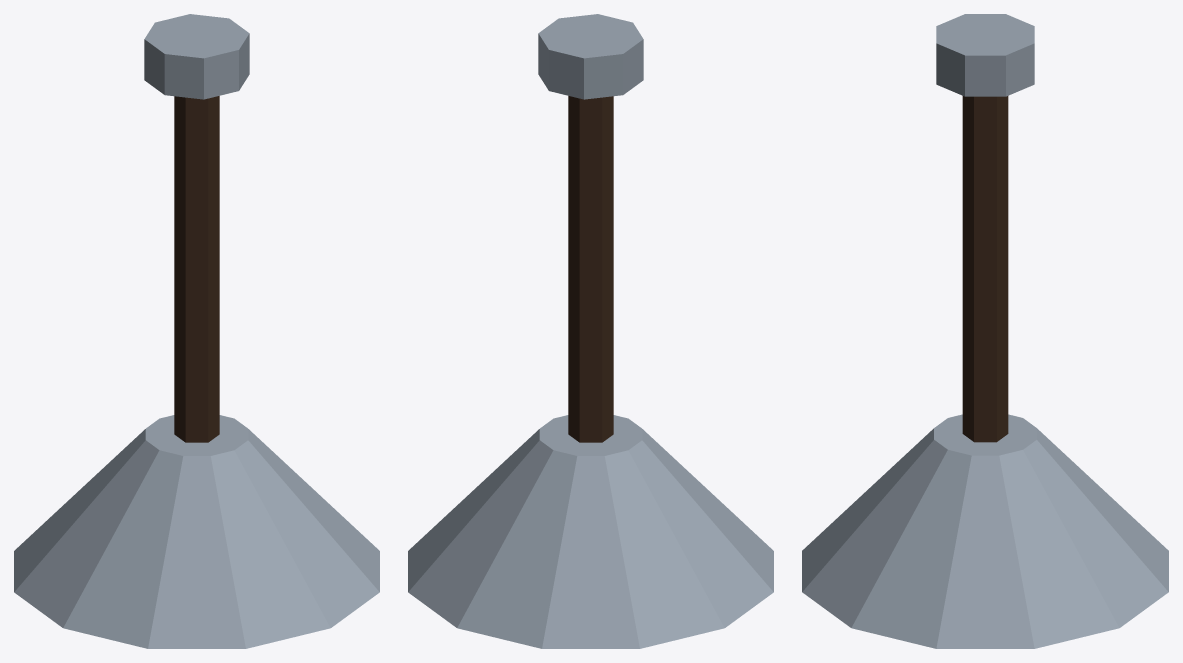
Rendered from Prop_Lamp.fbx.
3 views of the same model, side by side, from view 1: azimuth 30°, elevation 25°; view 2: azimuth 150°, elevation 25°; view 3: azimuth 270°, elevation 25° (orthographic).
Visible parts, largest first — view 1: Prop_Lamp; view 2: Prop_Lamp; view 3: Prop_Lamp.
Part boxes in pixels (x1,y1,x2,y2): Prop_Lamp: (14, 14, 379, 648); Prop_Lamp: (408, 14, 773, 648); Prop_Lamp: (802, 14, 1168, 648).
Bounding box in the file's own units: 48.3 × 82 × 48.3.
